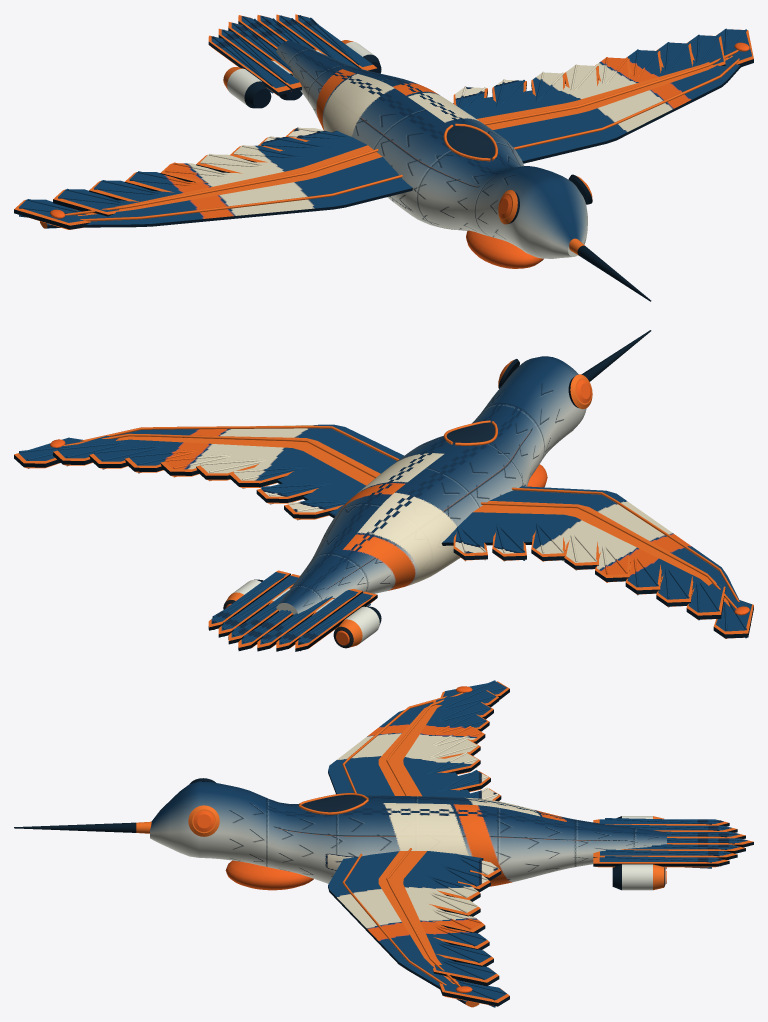
The picture shows the model from 3 angles, top to bottom: view 1: azimuth 30°, elevation 25°; view 2: azimuth 150°, elevation 25°; view 3: azimuth 270°, elevation 25°; orthographic projection. The views are drawn at different scales.
Visible parts, largest first — view 1: hummingbird_hull; view 2: hummingbird_hull; view 3: hummingbird_hull.
Boxes of the visible parts, x1,y1,x2,y2 form: hummingbird_hull: (14,14,753,301); hummingbird_hull: (14,330,753,651); hummingbird_hull: (14,680,753,1007).
Bounding box in the file's own units: 17 × 2.47 × 16.53.
1 material, 1 textured.
